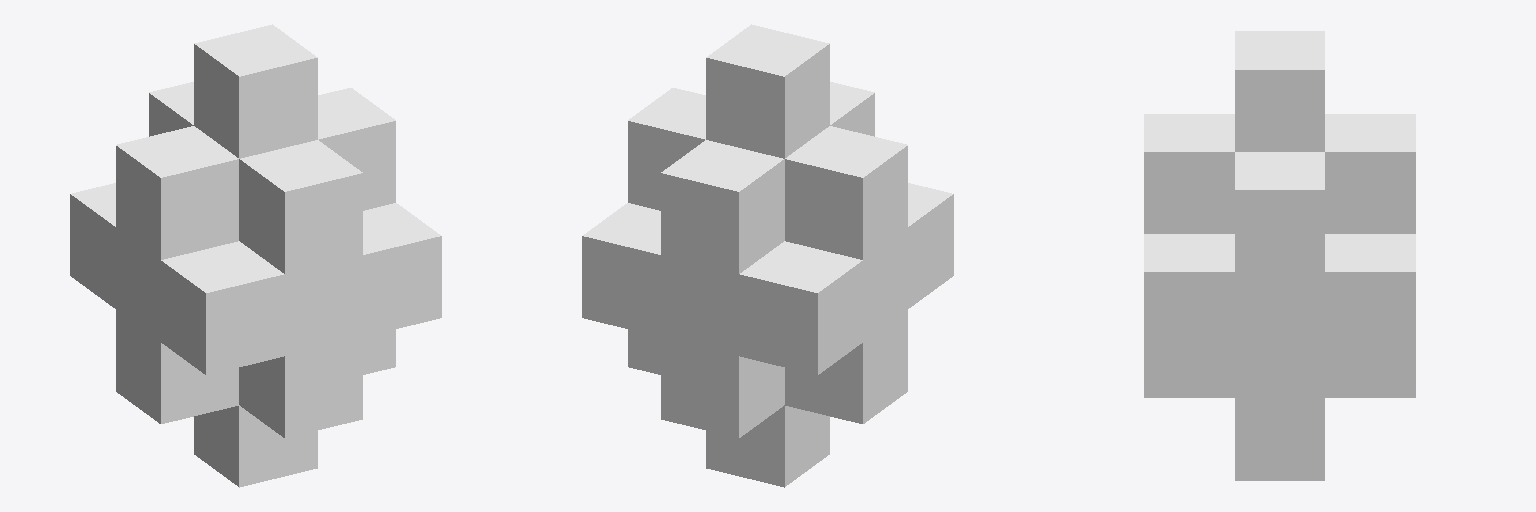
File: overworld-13-props_pinetree.obj
3 renders of one model, left to right at view 1: azimuth 30°, elevation 25°; view 2: azimuth 150°, elevation 25°; view 3: azimuth 270°, elevation 25°, orthographic.
Parts seen in each view (by area): view 1: props_pinetree; view 2: props_pinetree; view 3: props_pinetree.
Boxes of the visible parts, x1,y1,x2,y2 form: props_pinetree: [70, 24, 441, 487]; props_pinetree: [582, 24, 953, 487]; props_pinetree: [1144, 31, 1415, 480].
Size of the model in its own units: 0.3 by 0.5 by 0.3.